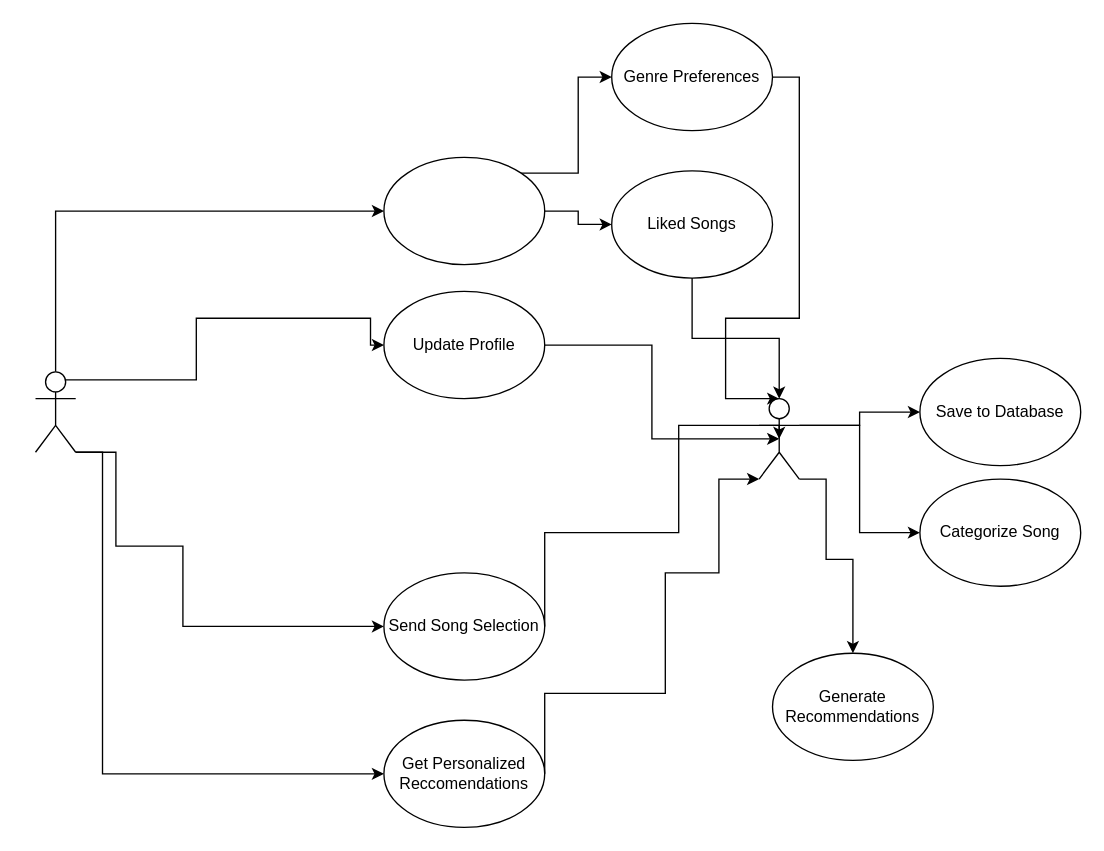
Image size: 1104x851. Some labels were removed from this diagram. The centre of each missing label's shape, as x and y in pixels:
"Backend" goes at pixel 778 438.
"Create Profile" goes at pixel 464 210.
"FrontEnd" goes at pixel 55 411.
